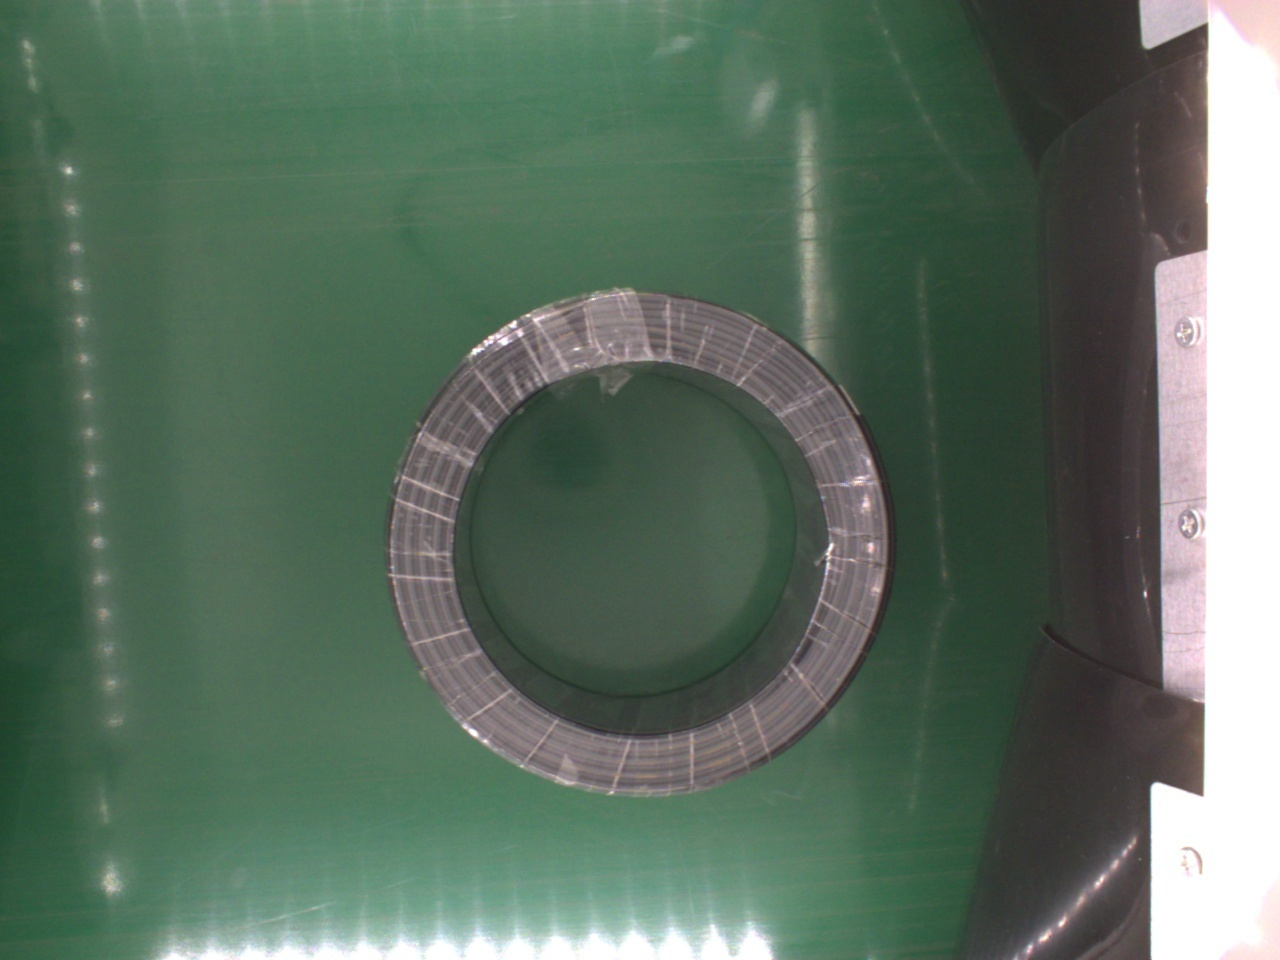black: (380, 290, 895, 797)
